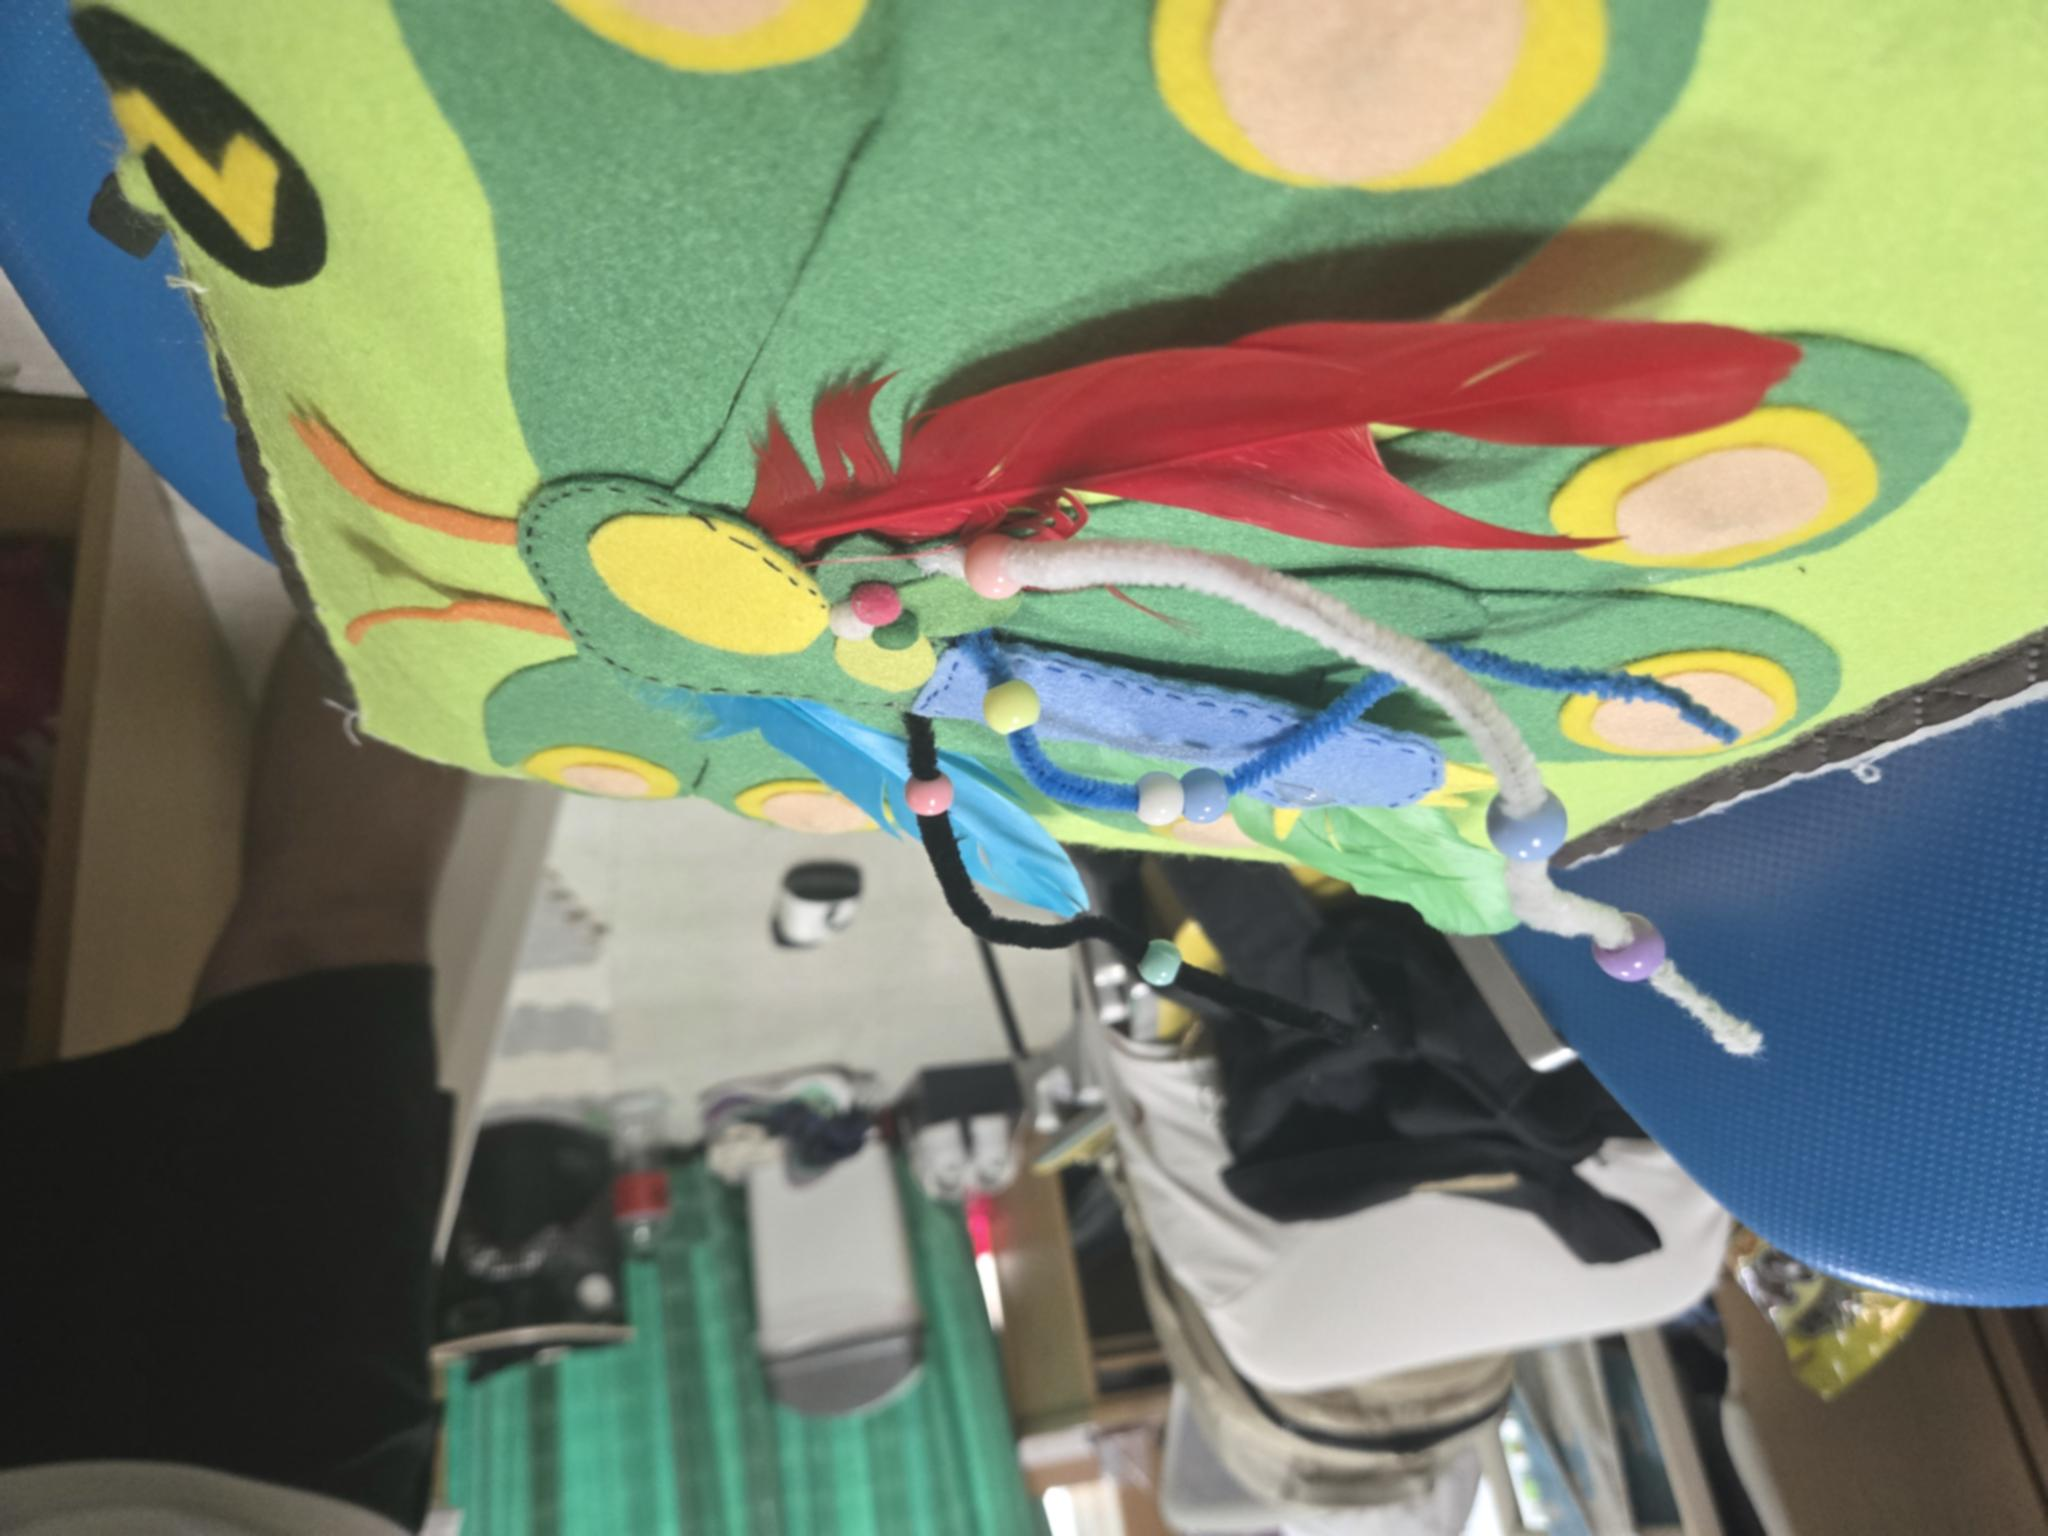bead: (1485, 781, 1588, 863), (953, 524, 1029, 611), (1593, 907, 1666, 991), (972, 665, 1045, 744), (1132, 928, 1197, 995), (1121, 773, 1185, 837), (897, 762, 953, 833), (1193, 757, 1230, 837)
